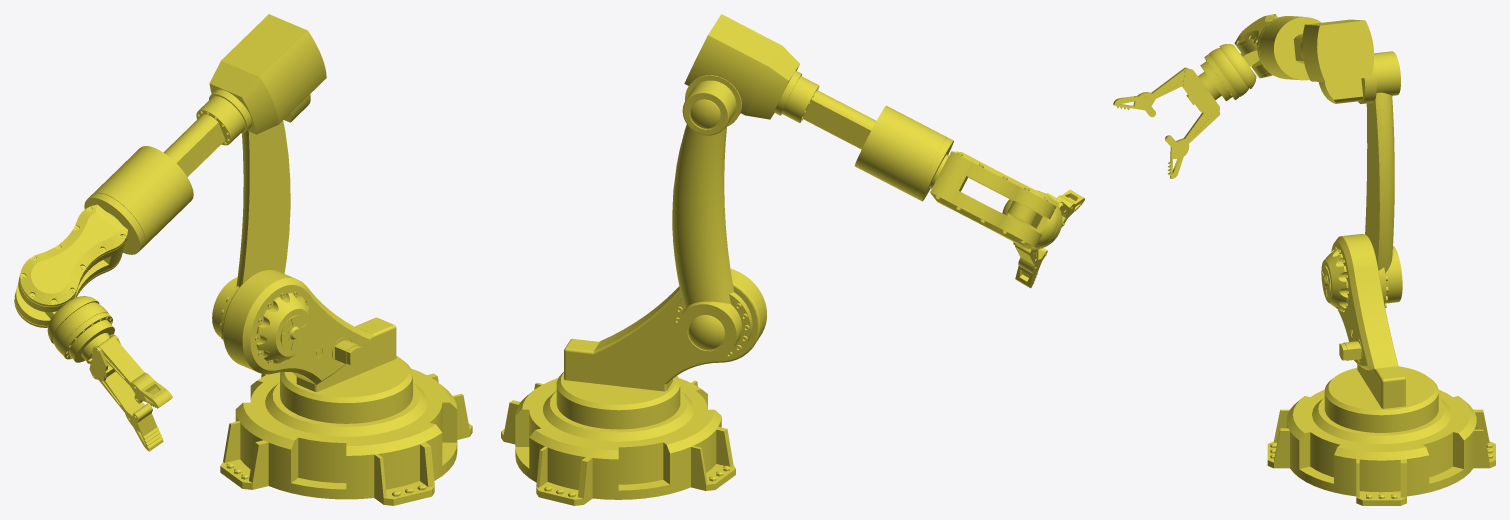
Rendered from uploads_files_2951208_Робо+рука.fbx.
The picture shows the model from 3 angles, left to right: view 1: azimuth 30°, elevation 25°; view 2: azimuth 150°, elevation 25°; view 3: azimuth 270°, elevation 25°; orthographic projection. The views are drawn at different scales.
Visible parts, largest first — view 1: Подставка под роборуку, JAW 1, JAW 3 (1) (1), JAW 2 (1) (1), JAW4, Body1 (×2), JAW 5, JAW 6; view 2: Подставка под роборуку, JAW 3 (1) (1), JAW 2 (1) (1), JAW 1, JAW4, JAW 5, Body1; view 3: Подставка под роборуку, JAW 1, JAW 3 (1) (1), JAW 2 (1) (1), Body1 (×2), JAW 5, JAW 6, JAW4.
Part boxes in pixels (x1=…): Подставка под роборуку: x1=220, y1=368, x2=472, y2=505; JAW 1: x1=223, y1=270, x2=412, y2=423; JAW 3 (1) (1): x1=84, y1=14, x2=326, y2=254; JAW 2 (1) (1): x1=212, y1=120, x2=290, y2=340; JAW4: x1=14, y1=204, x2=127, y2=327; Body1 (×2): x1=92, y1=336, x2=172, y2=451; JAW 5: x1=45, y1=296, x2=112, y2=359; JAW 6: x1=70, y1=321, x2=120, y2=381; Подставка под роборуку: x1=501, y1=378, x2=735, y2=505; JAW 3 (1) (1): x1=684, y1=14, x2=953, y2=201; JAW 2 (1) (1): x1=672, y1=80, x2=752, y2=360; JAW 1: x1=556, y1=268, x2=766, y2=429; JAW4: x1=929, y1=151, x2=1056, y2=247; JAW 5: x1=1002, y1=190, x2=1062, y2=249; Body1: x1=1015, y1=244, x2=1047, y2=288; Подставка под роборуку: x1=1267, y1=389, x2=1495, y2=505; JAW 1: x1=1321, y1=233, x2=1438, y2=432; JAW 3 (1) (1): x1=1257, y1=16, x2=1376, y2=103; JAW 2 (1) (1): x1=1365, y1=51, x2=1402, y2=307; Body1 (×2): x1=1113, y1=67, x2=1220, y2=178; JAW 5: x1=1204, y1=44, x2=1259, y2=99; JAW 6: x1=1182, y1=62, x2=1231, y2=115; JAW4: x1=1234, y1=14, x2=1277, y2=78.
Bounding box in the file's own units: 799 × 697 × 604.
